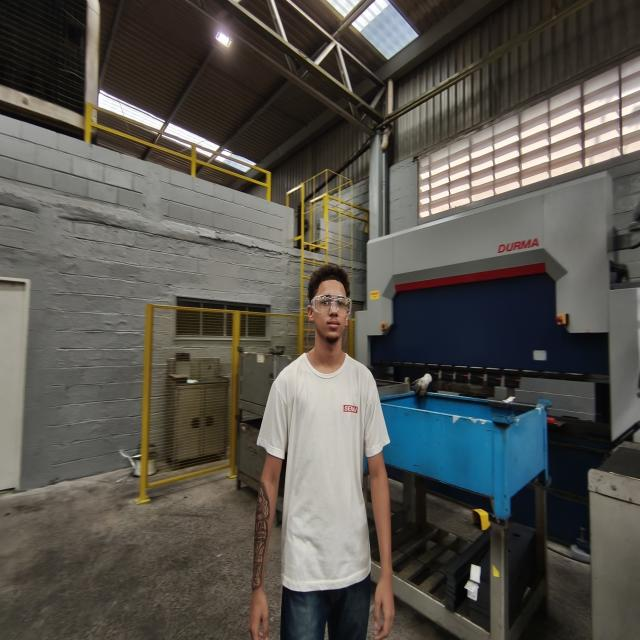oculos-epi: (310, 294, 352, 314)
